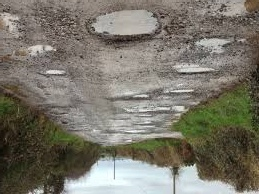pothole: (78, 8, 163, 43), (198, 0, 258, 26), (2, 47, 60, 63), (192, 35, 233, 54), (0, 6, 21, 38), (172, 64, 216, 74), (136, 106, 185, 114), (39, 66, 67, 79), (118, 94, 149, 104), (165, 87, 195, 95), (123, 127, 147, 134), (44, 103, 72, 108), (135, 113, 152, 118), (49, 111, 66, 116)
